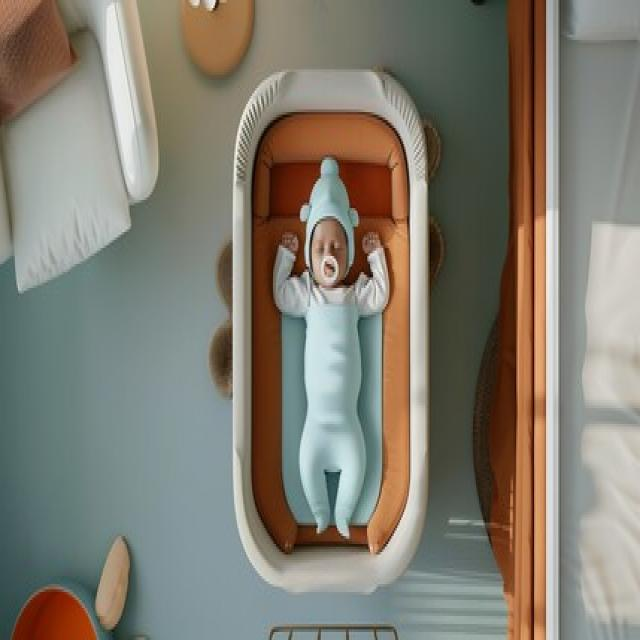crib: (230, 64, 437, 592)
